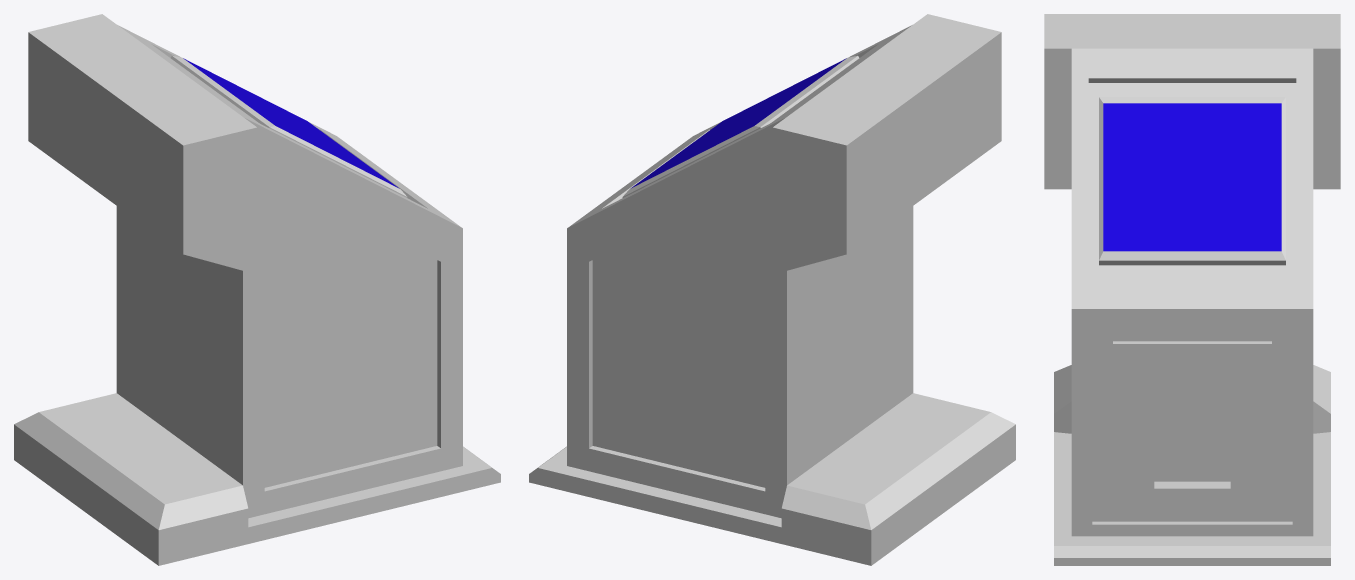
File: Monitor_LowPoly_2.fbx
3 views of the same model, side by side, from view 1: azimuth 30°, elevation 25°; view 2: azimuth 150°, elevation 25°; view 3: azimuth 270°, elevation 25° (orthographic). The views are drawn at different scales.
Visible parts, largest first — view 1: Cube; view 2: Cube; view 3: Cube.
Part boxes in pixels (x1,y1,x2,y2): Cube: [14, 14, 500, 565]; Cube: [529, 14, 1015, 565]; Cube: [1044, 14, 1340, 565].
Bounding box in the file's own units: 153 × 180 × 120.
